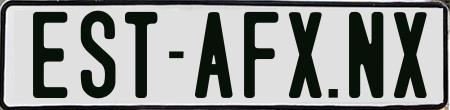A: (195, 9, 234, 98)
E: (30, 10, 69, 99)
F: (244, 10, 278, 96)
N: (348, 10, 387, 102)
S: (80, 11, 115, 99)
T: (123, 12, 156, 98)
X: (394, 9, 433, 97), (286, 11, 323, 101)
